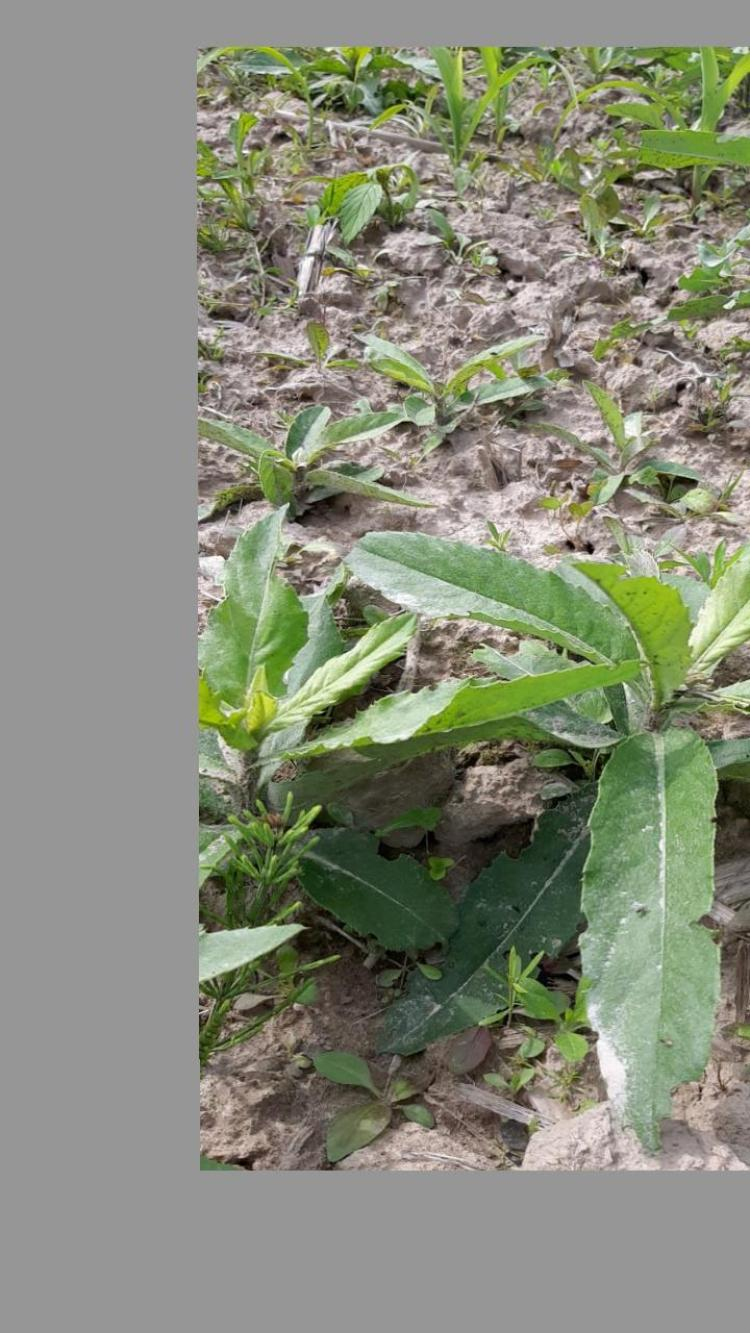osot: (354, 527, 750, 1168)
